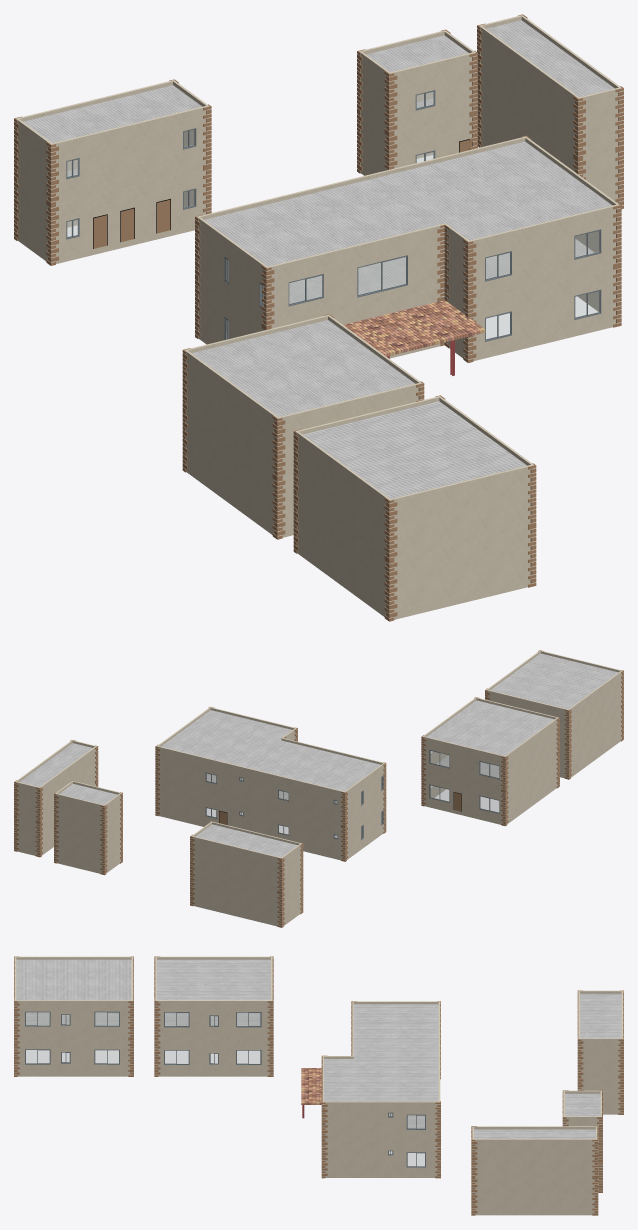
The model's file is Plan(REF)_levels(2)_window(REF)_wall(Masonry - Finish)_quoin(Y)_cornice(N).fbx.
3 renders of one model, top to bottom at view 1: azimuth 30°, elevation 25°; view 2: azimuth 150°, elevation 25°; view 3: azimuth 270°, elevation 25°, orthographic. The views are drawn at different scales.
Visible parts, largest first — view 1: Masonry - Finish, WAFRA Roof - Corrugated Sheet Matte 23, Color - Sand, Glass - Clear, Tile - Roofing - Spanish, Color - White, Metal - Finish - Aluminum; view 2: Masonry - Finish, WAFRA Roof - Corrugated Sheet Matte 23, Color - Sand, Glass - Clear, Color - White, Metal - Finish - Aluminum; view 3: Masonry - Finish, WAFRA Roof - Corrugated Sheet Matte 23, Color - Sand, Glass - Clear, Metal - Finish - Aluminum, Color - White, Tile - Roofing - Spanish.
Boxes of the visible parts, left/top/right/bottom form: Masonry - Finish: left=16, top=15, right=621, bottom=619; WAFRA Roof - Corrugated Sheet Matte 23: left=23, top=20, right=614, bottom=498; Color - Sand: left=14, top=14, right=623, bottom=621; Glass - Clear: left=67, top=92, right=598, bottom=339; Tile - Roofing - Spanish: left=343, top=300, right=485, bottom=356; Color - White: left=14, top=29, right=623, bottom=618; Metal - Finish - Aluminum: left=66, top=90, right=601, bottom=341; Masonry - Finish: left=15, top=650, right=622, bottom=926; WAFRA Roof - Corrugated Sheet Matte 23: left=19, top=653, right=618, bottom=857; Color - Sand: left=14, top=650, right=623, bottom=927; Glass - Clear: left=207, top=751, right=498, bottom=838; Color - White: left=14, top=675, right=623, bottom=925; Metal - Finish - Aluminum: left=205, top=750, right=499, bottom=839; Masonry - Finish: left=14, top=956, right=623, bottom=1215; WAFRA Roof - Corrugated Sheet Matte 23: left=16, top=959, right=621, bottom=1138; Color - Sand: left=14, top=956, right=623, bottom=1215; Glass - Clear: left=26, top=1012, right=424, bottom=1165; Metal - Finish - Aluminum: left=25, top=1011, right=425, bottom=1167; Color - White: left=14, top=958, right=623, bottom=1213; Tile - Roofing - Spanish: left=301, top=1068, right=321, bottom=1104.
Bounding box in the file's own units: 4163 × 5848 × 800.
13 materials, 5 textured.
